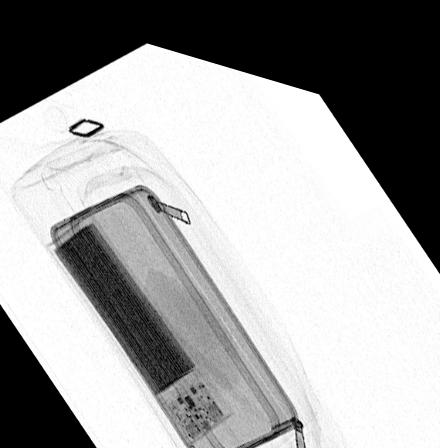Powerbank: (42, 206, 233, 435)
